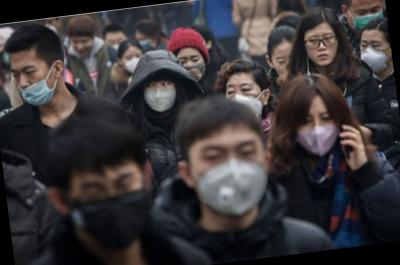mask_weared_incorrect: (11, 57, 61, 109)
with_mask: (66, 166, 159, 256), (187, 134, 275, 224), (292, 106, 343, 160), (223, 77, 267, 124), (358, 34, 394, 76), (143, 78, 179, 115), (176, 51, 208, 84), (124, 51, 144, 76)
without_mask: (306, 29, 342, 67), (69, 33, 98, 58)
